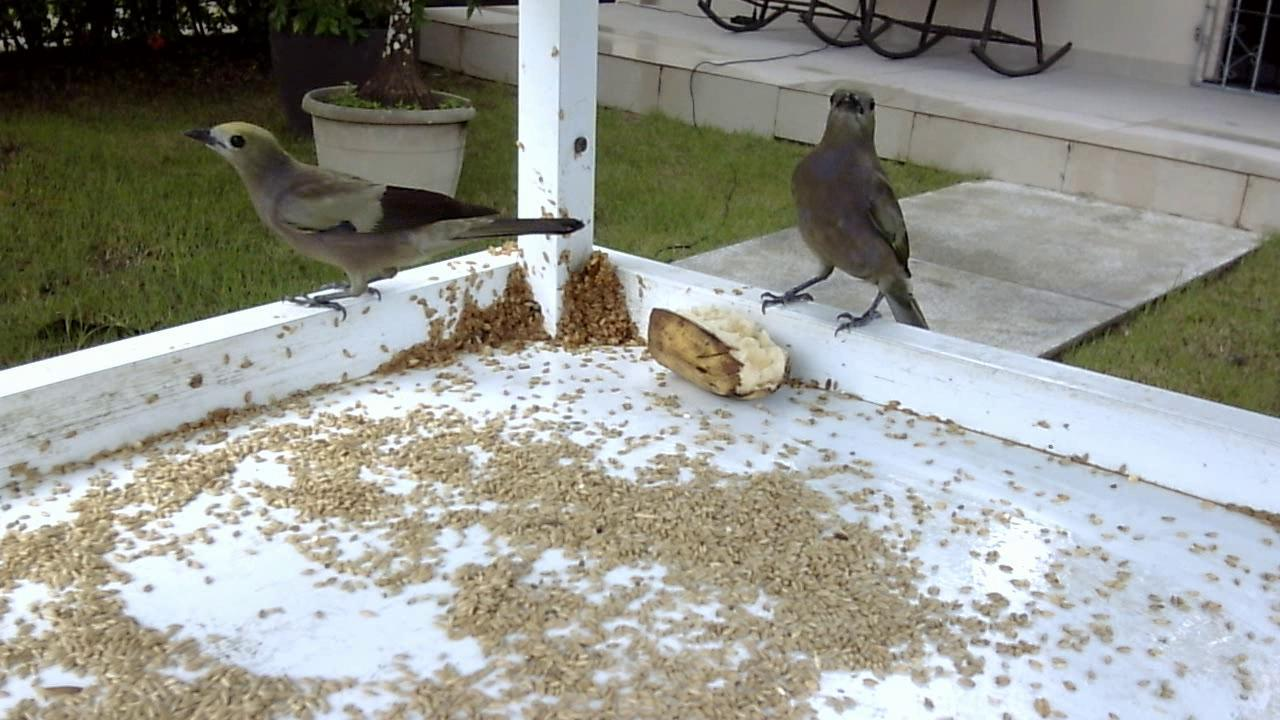sanhaco_do_coqueiro: (182, 124, 587, 327), (750, 78, 936, 343)
